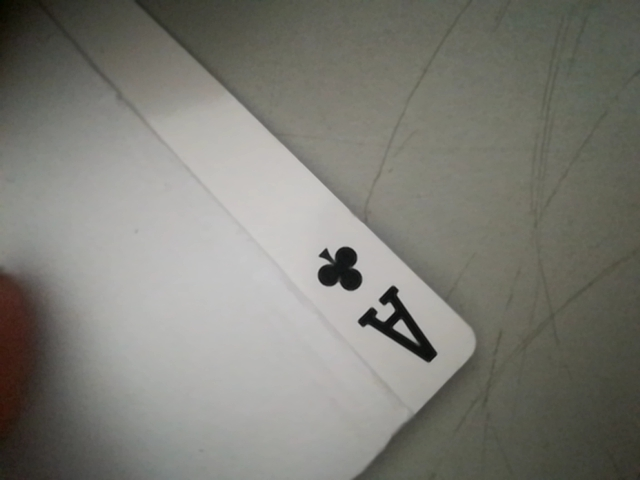mh a: (295, 234, 457, 375)
